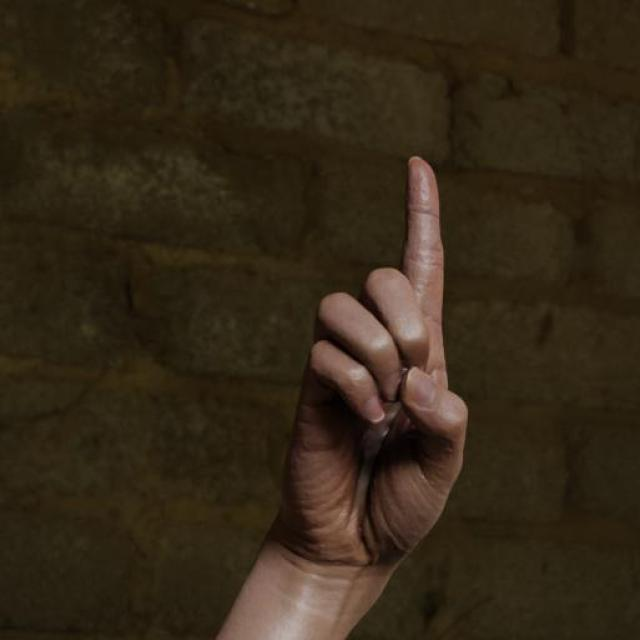D: (282, 147, 474, 568)
